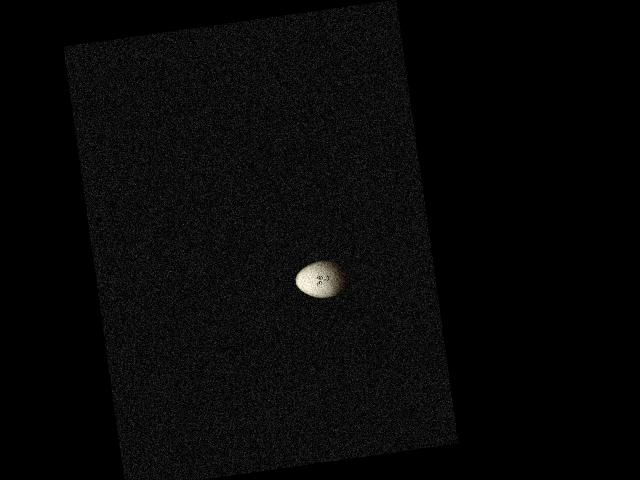egg: (293, 258, 347, 301)
